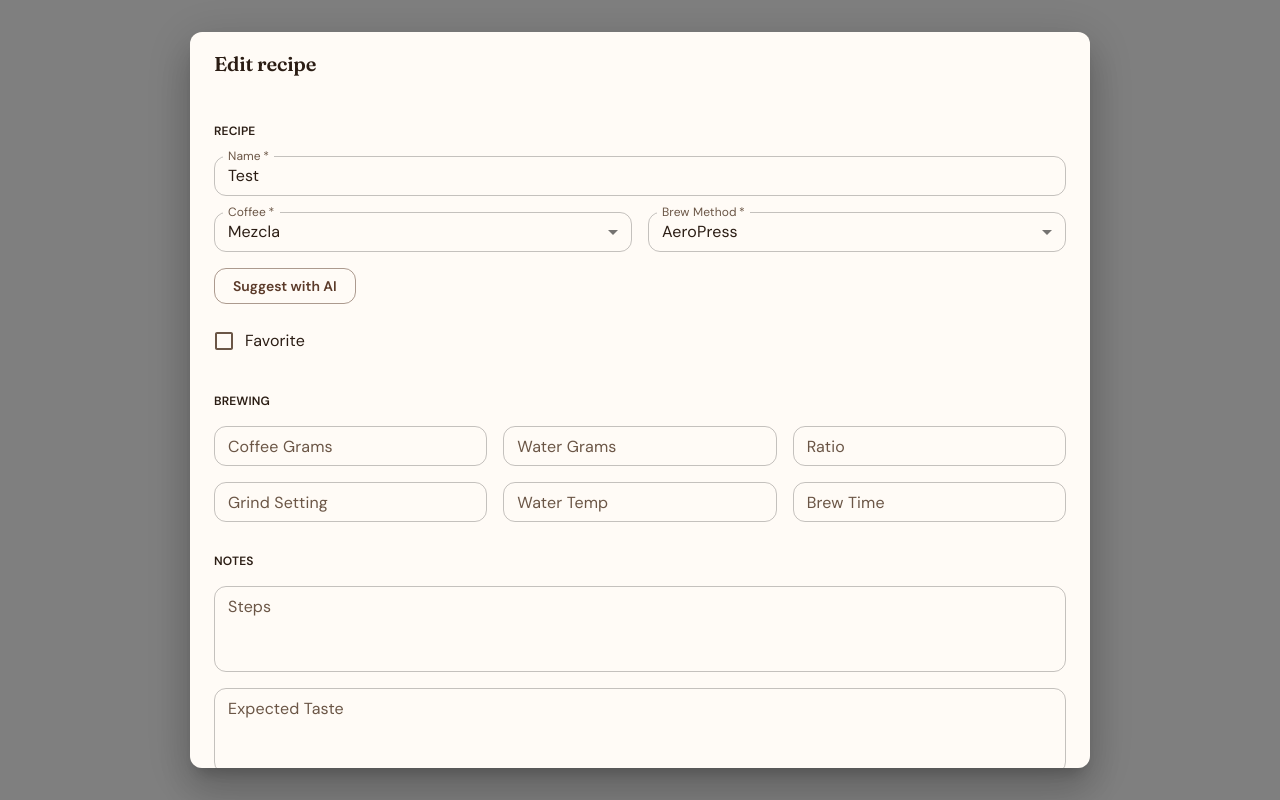
Test: RecipeFormDialog › fills fields and shows rationale on a successful suggestion
The width and height of the screenshot is (1280, 800).
Click the button "Suggest with AI". click: (285, 286)
box: left=214, top=268, right=356, bottom=304
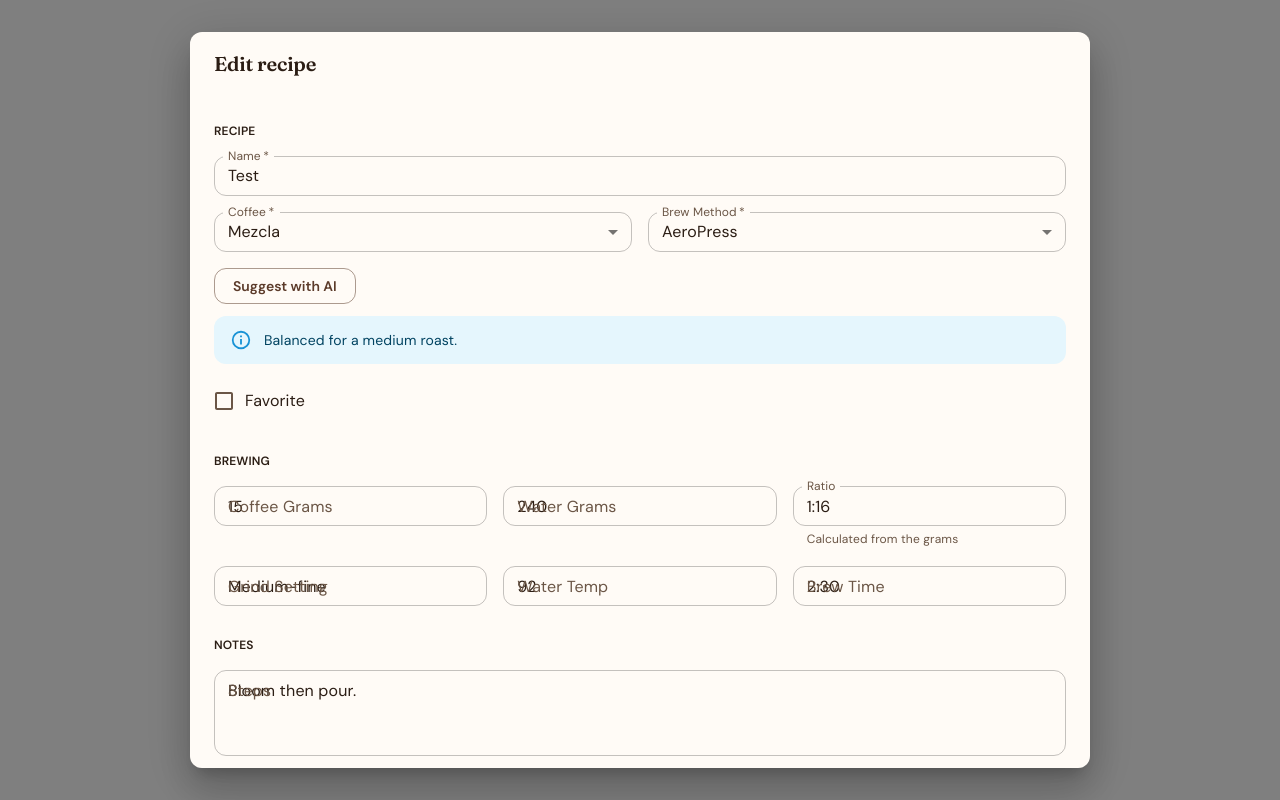
Check: the text "Balanced for a medium roast." is shown, box left=264, top=331, right=457, bottom=349
Check: the field labelled "Ratio" holds "1:16", box left=793, top=486, right=1066, bottom=526
